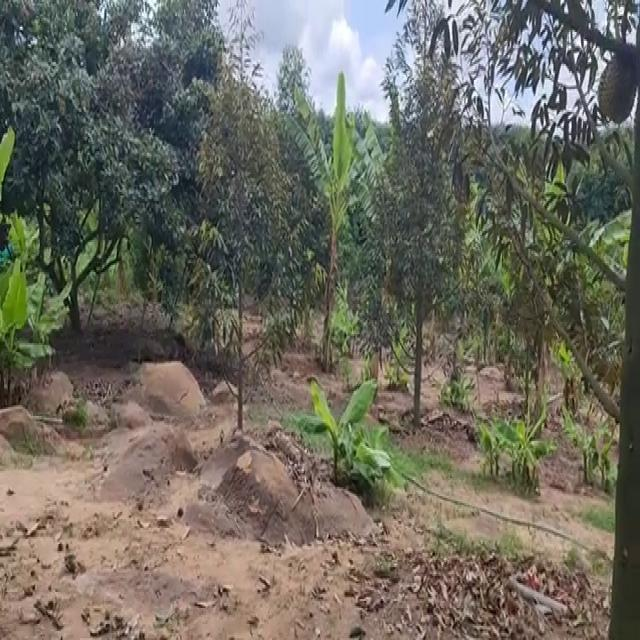durian: (597, 42, 638, 130)
